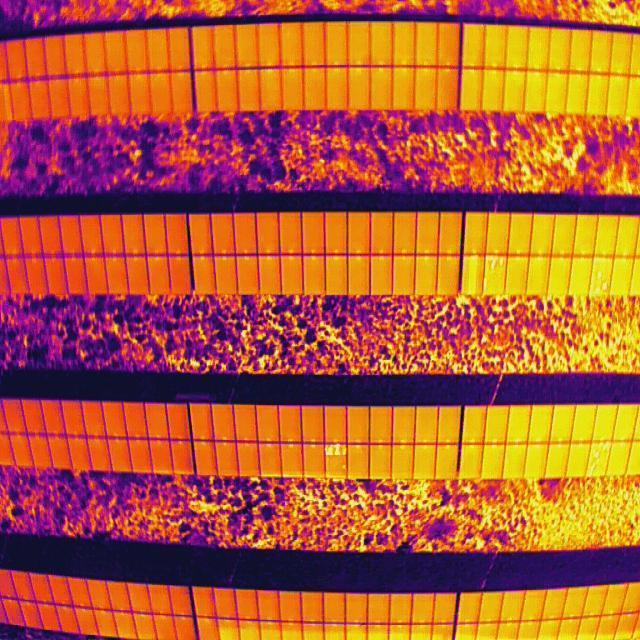panel: (391, 212, 418, 254), (300, 212, 326, 255), (323, 211, 349, 254), (346, 212, 372, 255), (369, 211, 395, 254), (190, 255, 216, 297), (187, 213, 212, 256), (210, 213, 235, 256), (233, 212, 258, 255), (255, 211, 280, 254), (278, 211, 303, 254), (416, 212, 440, 255), (438, 212, 462, 255), (436, 255, 461, 296), (280, 253, 303, 295), (214, 255, 237, 296), (236, 255, 259, 296), (258, 254, 281, 295), (303, 255, 326, 296), (324, 255, 347, 296), (348, 254, 371, 295), (370, 255, 393, 296), (391, 256, 414, 297), (415, 255, 438, 296), (278, 404, 302, 443), (301, 404, 325, 443), (323, 405, 347, 444), (347, 405, 371, 444), (368, 405, 392, 444), (391, 404, 415, 443), (414, 406, 438, 445), (437, 405, 461, 444), (435, 444, 459, 481), (412, 444, 436, 480), (391, 443, 415, 479), (301, 443, 324, 480), (346, 444, 371, 478), (323, 445, 348, 479), (279, 443, 303, 478), (258, 443, 282, 477)
